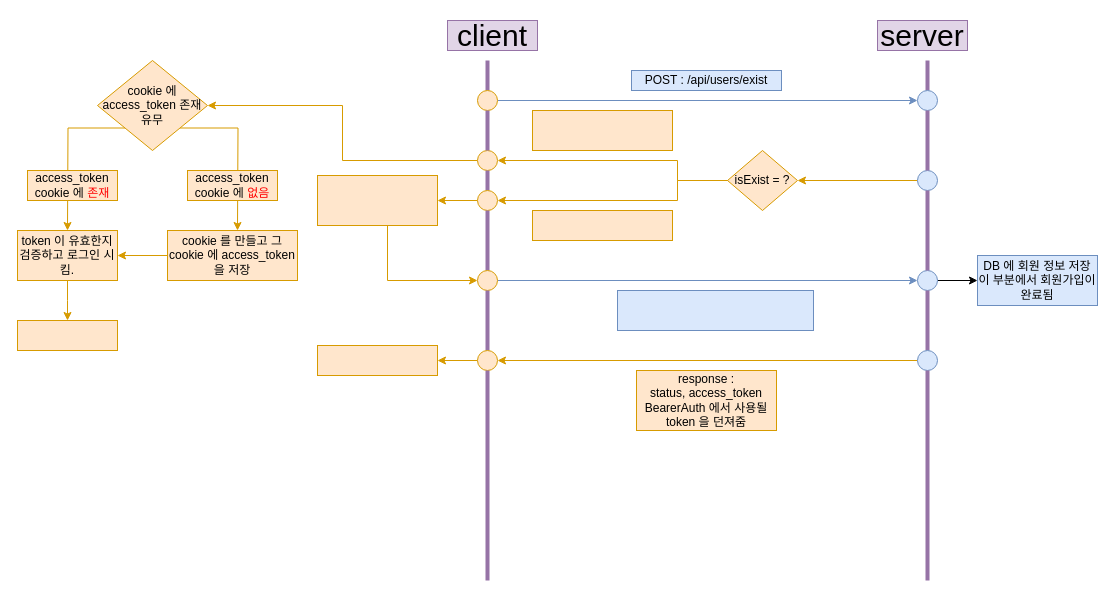
This 1115x600 diagram has some shape labels left out. Here are the shapes that lost their labels. From the top down, the centre of each, then its label:
At pixel 602 130: "회원이 이미 존재할 때 isExist : true access_token : {~}".
At pixel 377 200: "redirect : /add (위의 URL 은 client 가 정하는 URL 이다)".
At pixel 602 225: "회원이 존재하지 않을 때 isExist : false".
At pixel 715 310: "POST : /api/users/add 추가 정보 기입해서 위의 api 요청".
At pixel 67 335: "home 으로 redirect 시킴".
At pixel 377 360: "cookie 에 access_token 담기".
